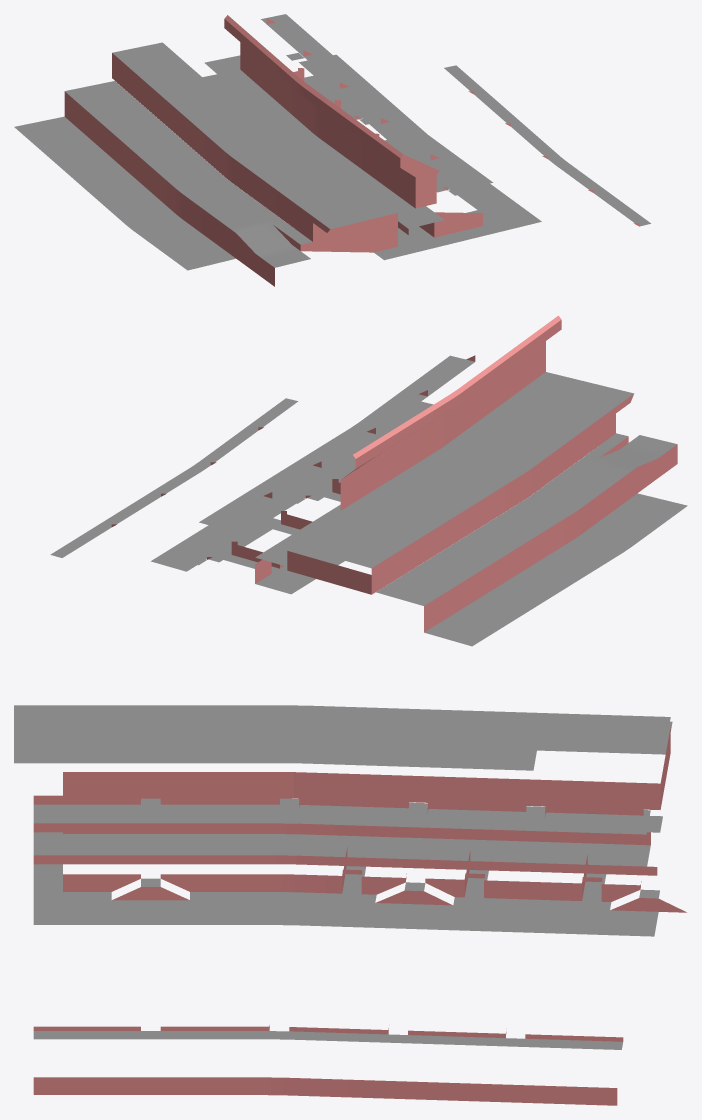
3 views of the same model, one above another, from view 1: azimuth 30°, elevation 25°; view 2: azimuth 150°, elevation 25°; view 3: azimuth 270°, elevation 25° (orthographic). The views are drawn at different scales.
Visible parts, largest first — view 1: Base_09; view 2: Base_09; view 3: Base_09.
Part boxes in pixels (x1,y1,x2,y2): Base_09: [14, 14, 650, 286]; Base_09: [50, 315, 687, 646]; Base_09: [14, 705, 686, 1105].
Bounding box in the file's own units: 101 × 32 × 88.22.
